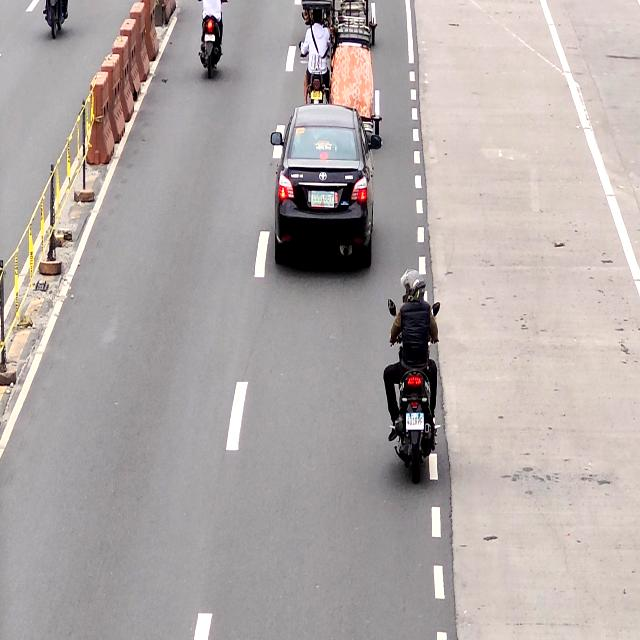Car: (274, 102, 372, 263)
License-Plate: (310, 190, 334, 210), (403, 412, 426, 432), (203, 34, 217, 45)
Motorcycle: (388, 272, 439, 485), (197, 0, 223, 81)
Tricycle: (298, 0, 382, 111)
